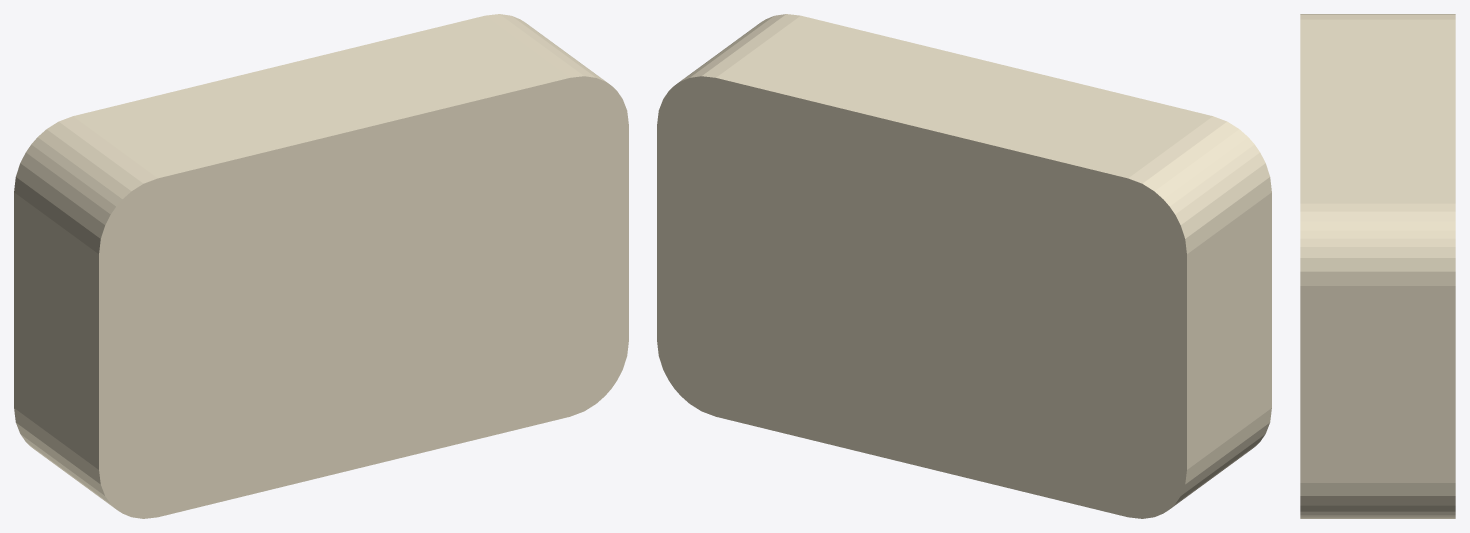
The picture shows the model from 3 angles, left to right: view 1: azimuth 30°, elevation 25°; view 2: azimuth 150°, elevation 25°; view 3: azimuth 270°, elevation 25°; orthographic projection. The views are drawn at different scales.
Visible parts, largest first — view 1: soap_bar; view 2: soap_bar; view 3: soap_bar.
Part boxes in pixels (x1,y1,x2,y2): soap_bar: (14,14,628,518); soap_bar: (657,14,1271,518); soap_bar: (1300,14,1455,518).
Bounding box in the file's own units: 0.09 × 0.055 × 0.025.
1 material, 1 textured.
